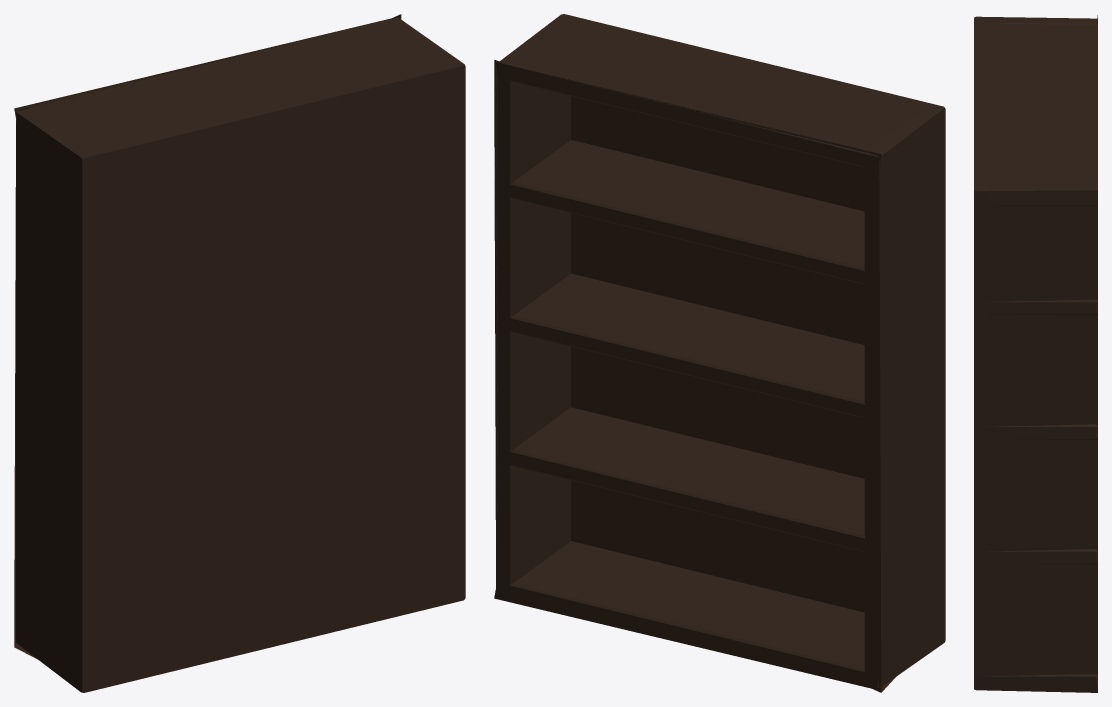
Rendered from bookshelf.fbx.
3 views of the same model, side by side, from view 1: azimuth 30°, elevation 25°; view 2: azimuth 150°, elevation 25°; view 3: azimuth 270°, elevation 25° (orthographic). The views are drawn at different scales.
Visible parts, largest first — view 1: bookshelf; view 2: bookshelf; view 3: bookshelf.
Part boxes in pixels (left/top/right/bottom): bookshelf: left=14, top=14, right=465, bottom=692; bookshelf: left=494, top=14, right=945, bottom=692; bookshelf: left=974, top=15, right=1097, bottom=692.
Size of the model in its own units: 606 by 806 by 180.
